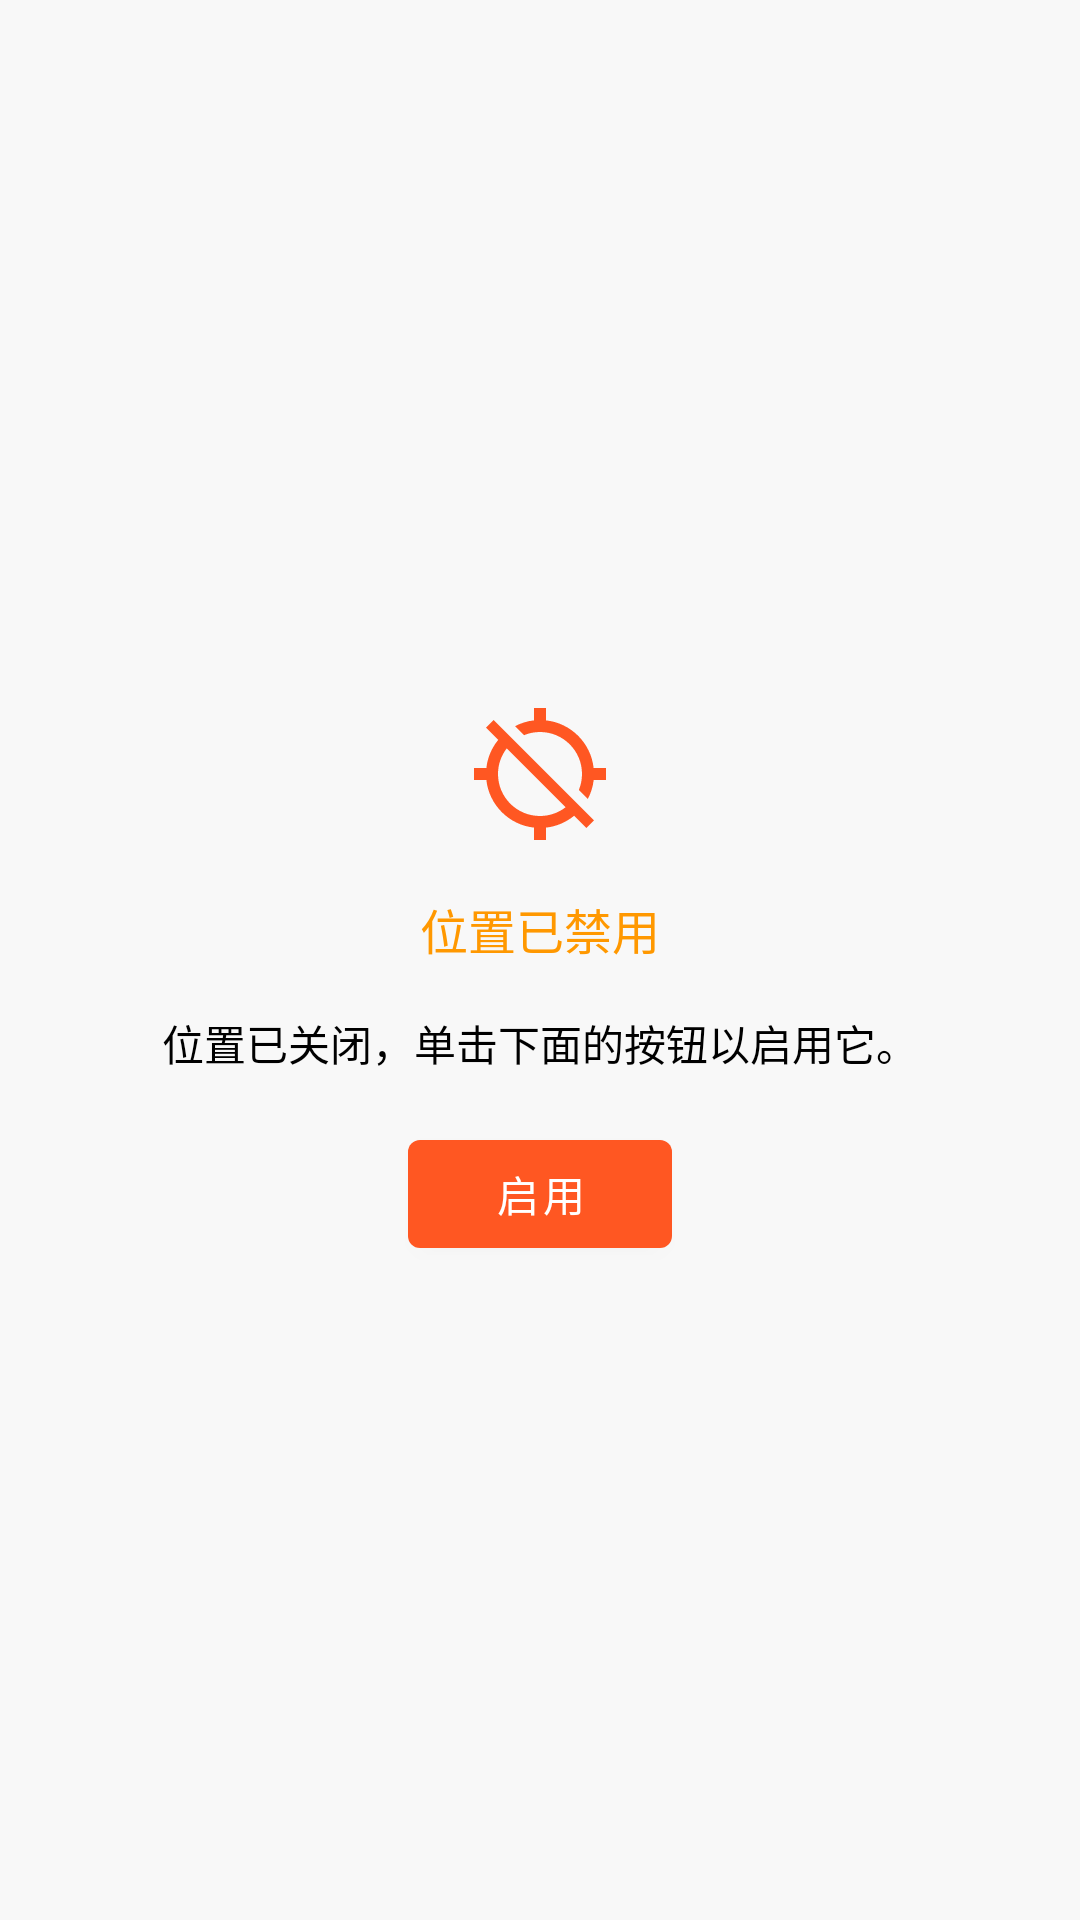

Named icons in this screenshot (1080 x 1920) and their bounding boxes, (x1,y1,x2,y2):
location: (474,708,606,840)
